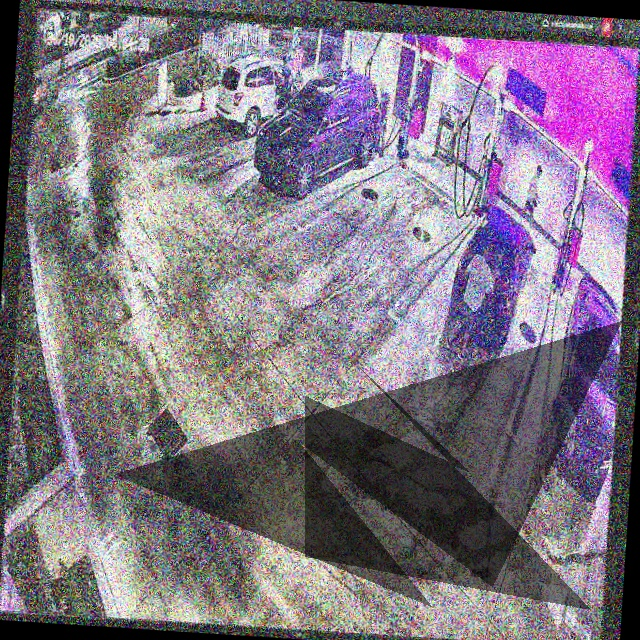Car: (254, 64, 383, 202), (450, 201, 538, 353)
